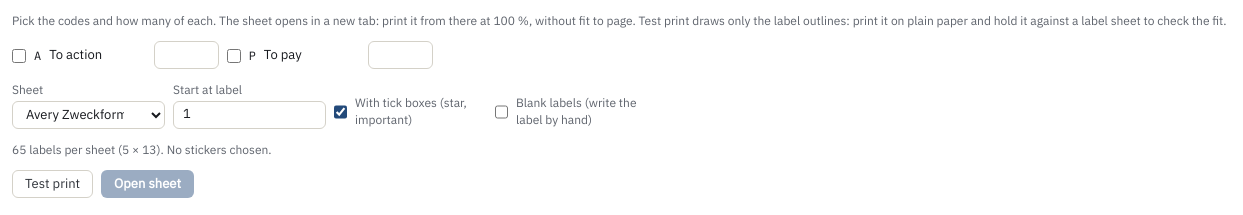
Test case: Print stickers (Settings) › Open sheet links to the sheet with the chosen codes, counts and options
This screenshot has width=1243, height=215.
Click the checkbox named "Print P" at coordinates (234, 56), box [227,49,241,63]
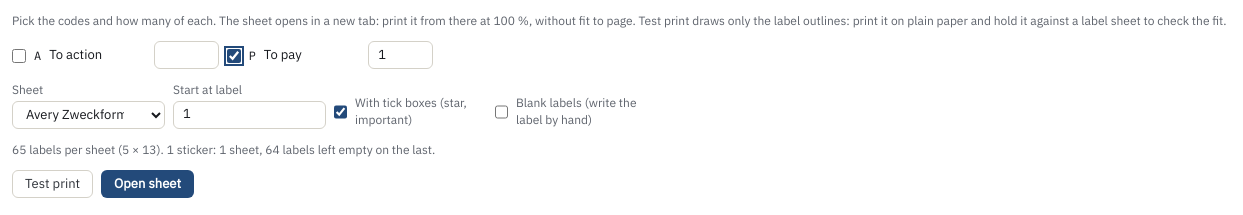
Replace the text in the number field named "How many P" with "12" at coordinates (401, 55), box [368,41,433,69]
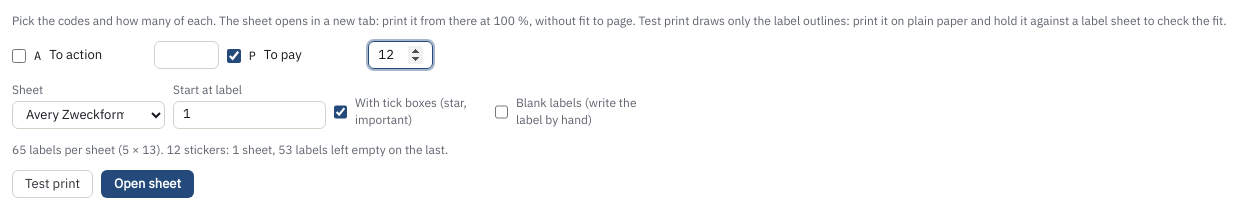
Click the checkbox named "Print A" at coordinates (19, 56), box [12,49,26,63]
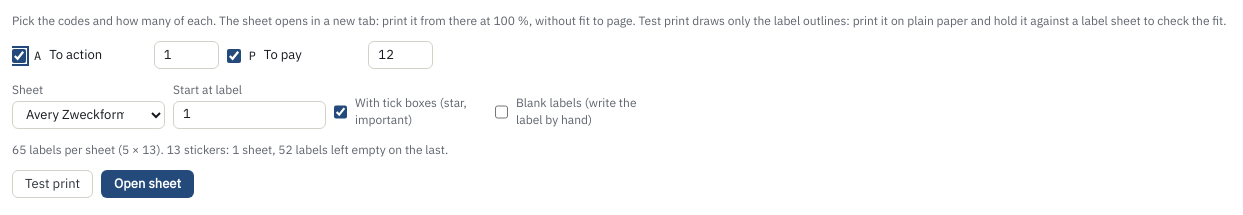
Click the checkbox labelled "Blank labels (write the label by hand)" at coordinates (502, 112), box [495,105,508,119]
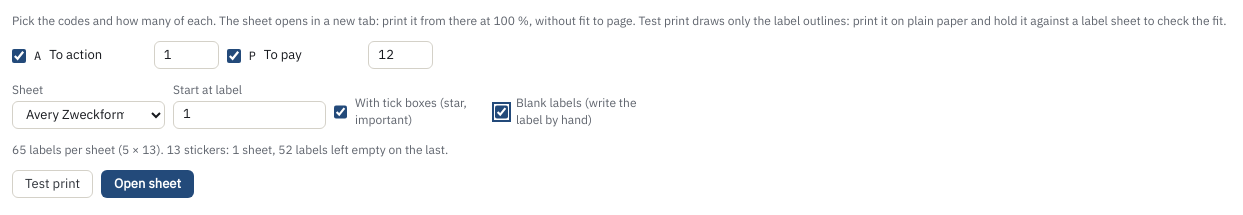
Click the checkbox labelled "With tick boxes (star, important)" at coordinates (340, 112), box [334,105,347,119]
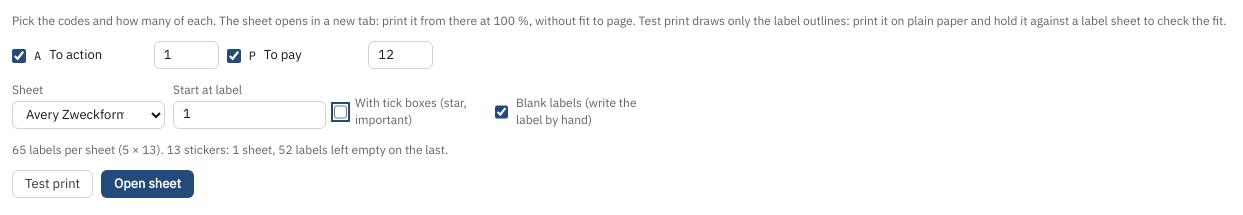
Replace the text in the number field labelled "Start at label" with "3" at coordinates (250, 115), box [173,101,326,129]
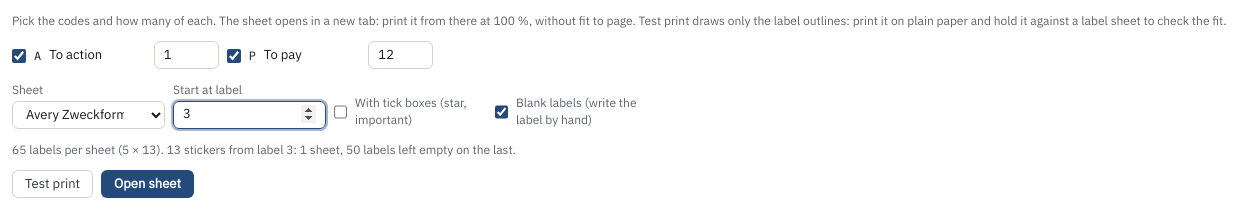
expect the text "65 labels per sheet (5 × 13). 13 stickers from label 3: 1 sheet, 50 labels left empty on the last." is shown: met, box [12,142,516,157]
